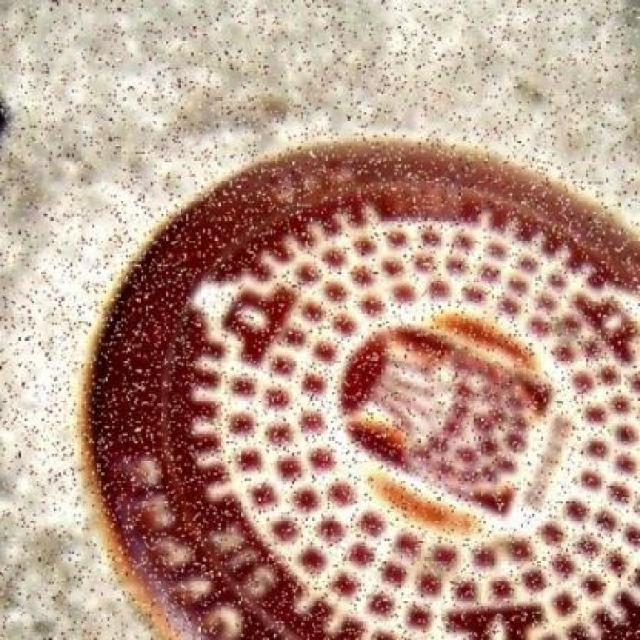Manhole: (59, 119, 638, 638)
